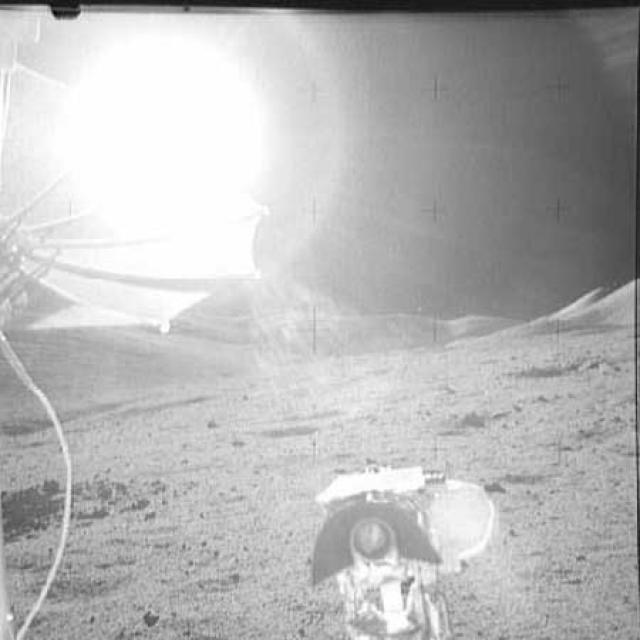artifact: (2, 52, 268, 346), (290, 456, 479, 638), (2, 343, 83, 632)
crater: (511, 356, 602, 384), (461, 408, 528, 432), (255, 418, 320, 441)
